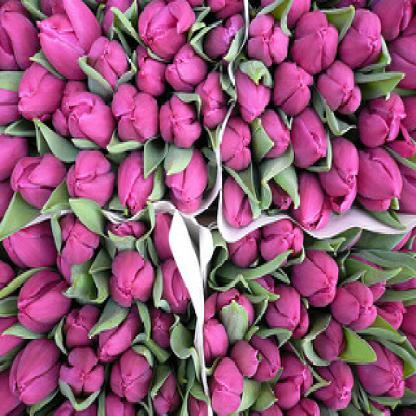TULIP: (6, 10, 411, 408)
